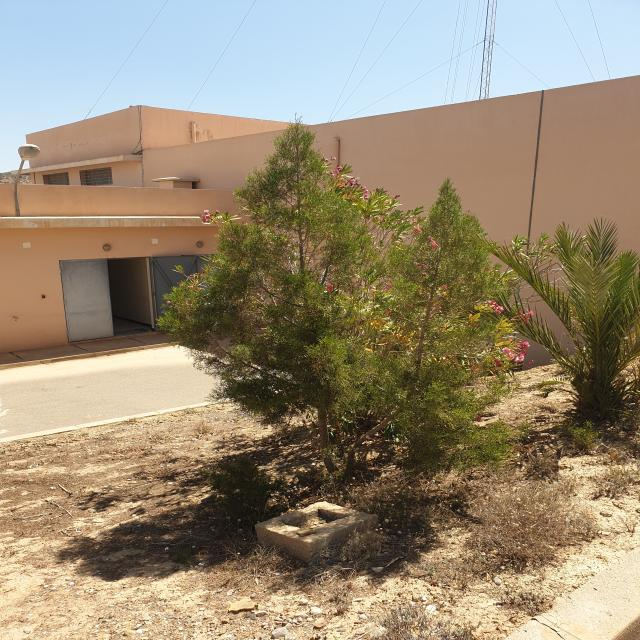Tree: (158, 122, 525, 478), (490, 218, 640, 419)
